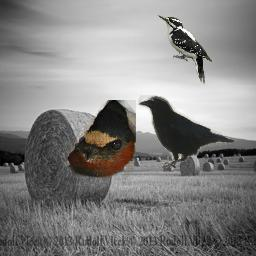Crow: (136, 94, 234, 168)
Swallow: (67, 100, 136, 179)
Woodpecker: (157, 13, 212, 85)
